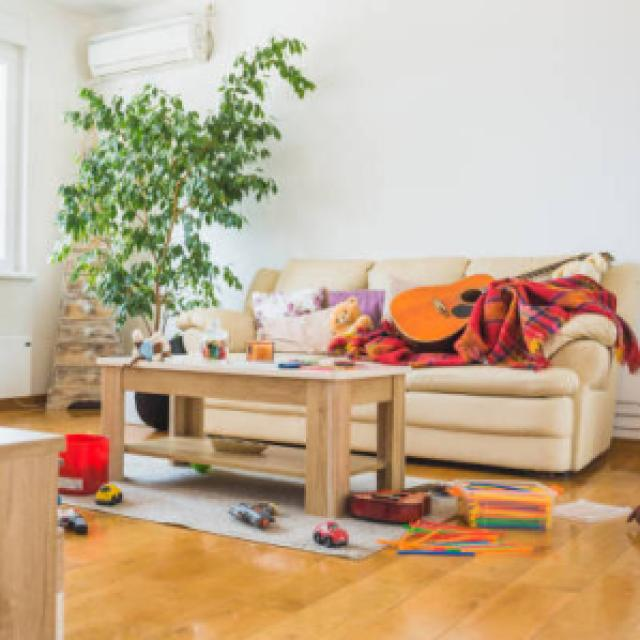mess: (408, 474, 600, 588), (412, 285, 601, 355), (203, 487, 332, 569), (70, 435, 142, 521), (202, 337, 346, 380)
